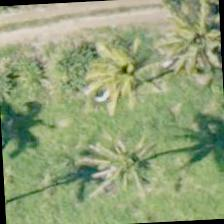Kelapa_Sawit: (66, 20, 161, 116), (73, 112, 168, 207), (155, 0, 223, 88)
